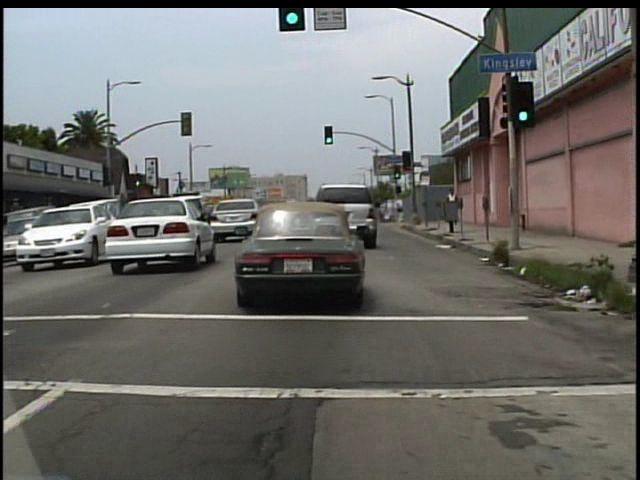person: (446, 185, 461, 224)
